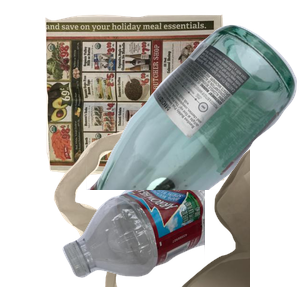glass: (86, 22, 300, 202)
paper: (42, 12, 260, 185)
plastic: (60, 190, 300, 280)
trash: (51, 120, 291, 300)
